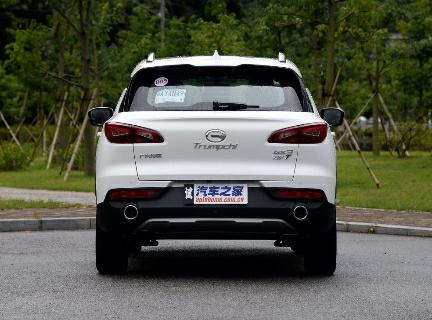广汽传祺-传祺GS3: (88, 50, 347, 282)
